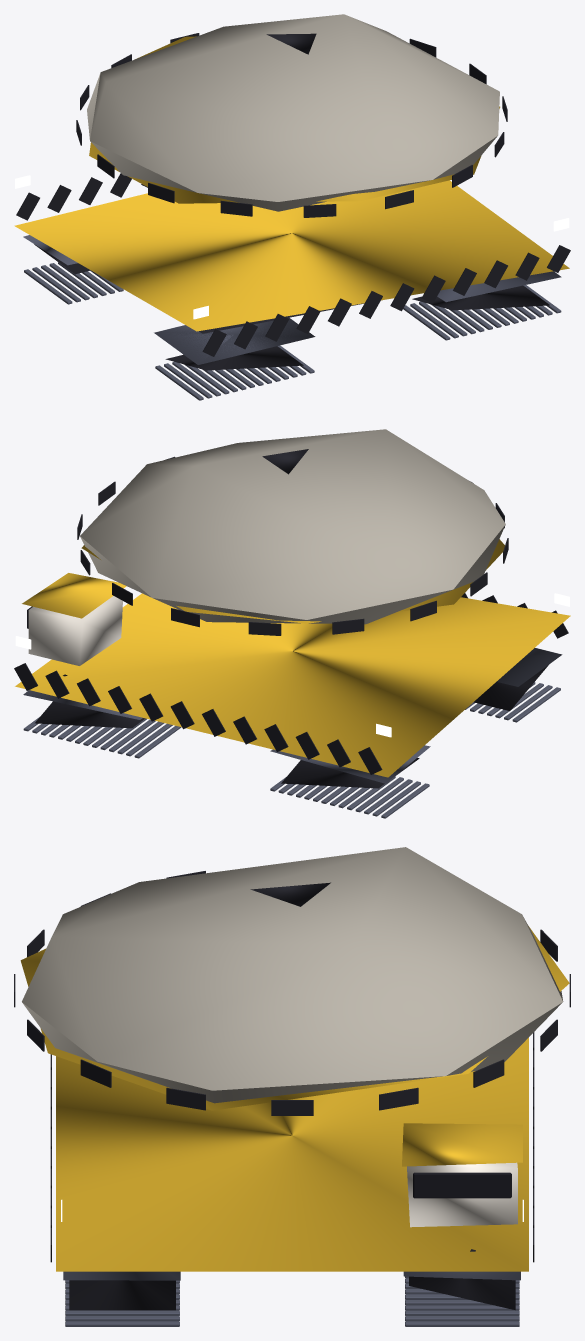
File: capper.glb
3 renders of one model, top to bottom at view 1: azimuth 30°, elevation 25°; view 2: azimuth 150°, elevation 25°; view 3: azimuth 270°, elevation 25°, orthographic. The views are drawn at different scales.
Visible parts, largest first — view 1: capper; view 2: capper; view 3: capper.
Boxes of the visible parts, x1,y1,x2,y2 form: capper: (14, 14, 570, 400); capper: (14, 429, 570, 818); capper: (14, 847, 570, 1326).
Bounding box in the file's own units: 39.6 × 25.18 × 39.34.
1 material, 1 textured.
